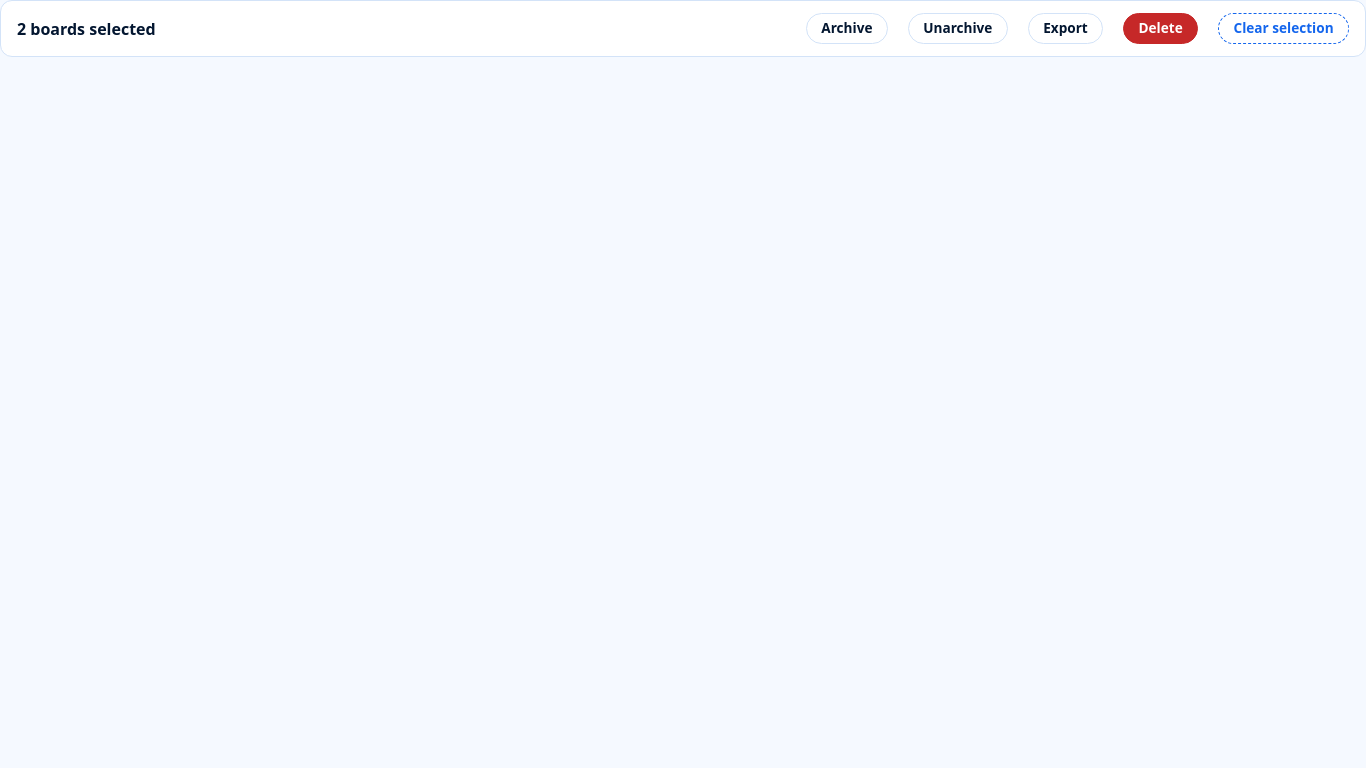
Test: BulkBoardBar › deletes nothing when the question is cancelled
The image size is (1366, 768).
Click the button "Delete": [1161, 29] box [1123,13,1198,44]
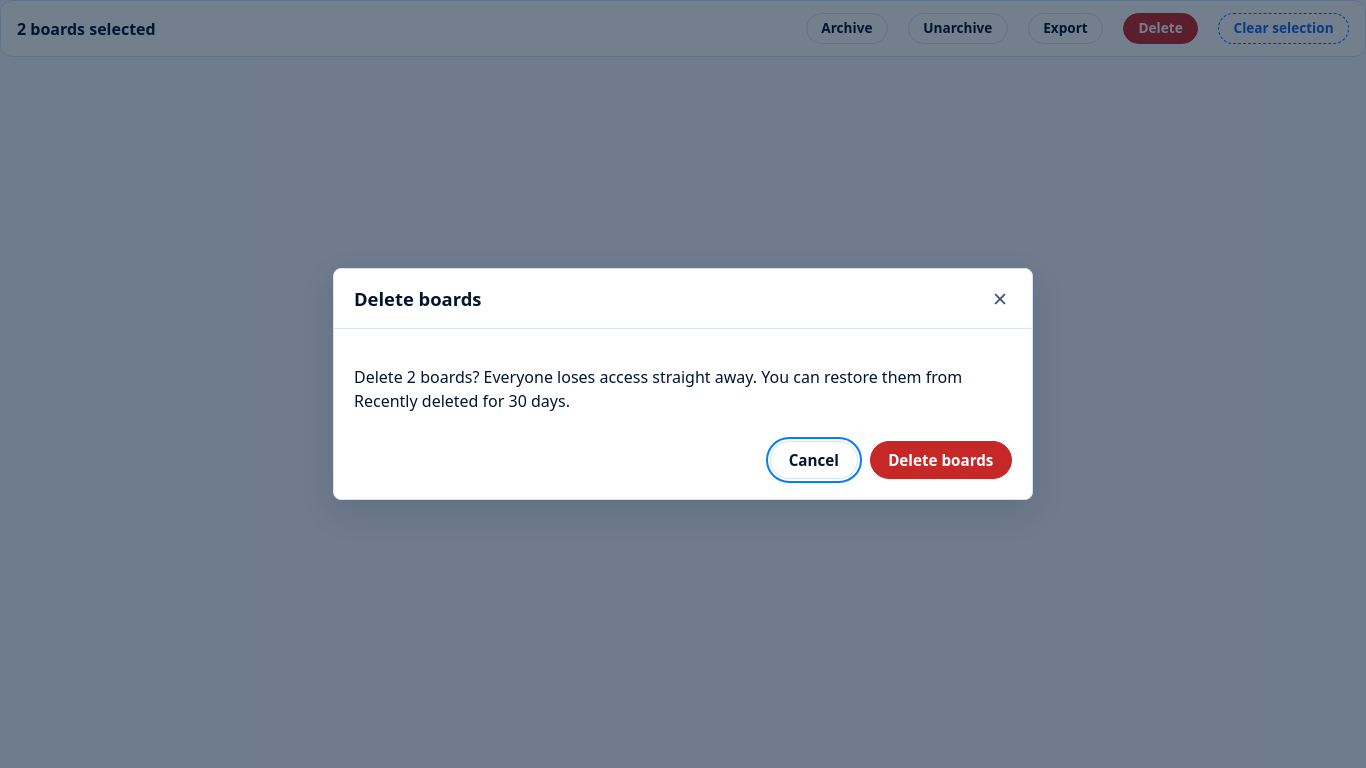
Click the button "Cancel": [814, 460] box [770,441,858,479]
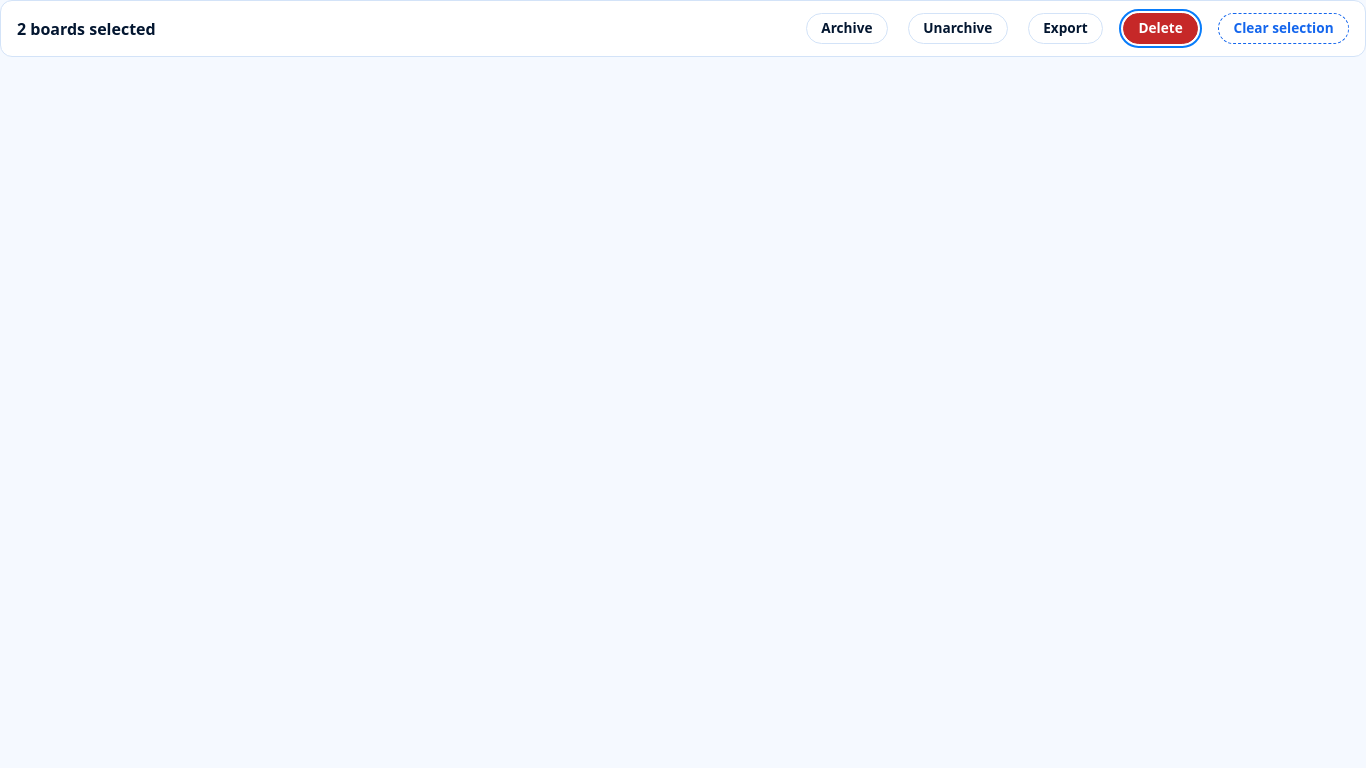
Expected: the heading "Delete boards" is gone
